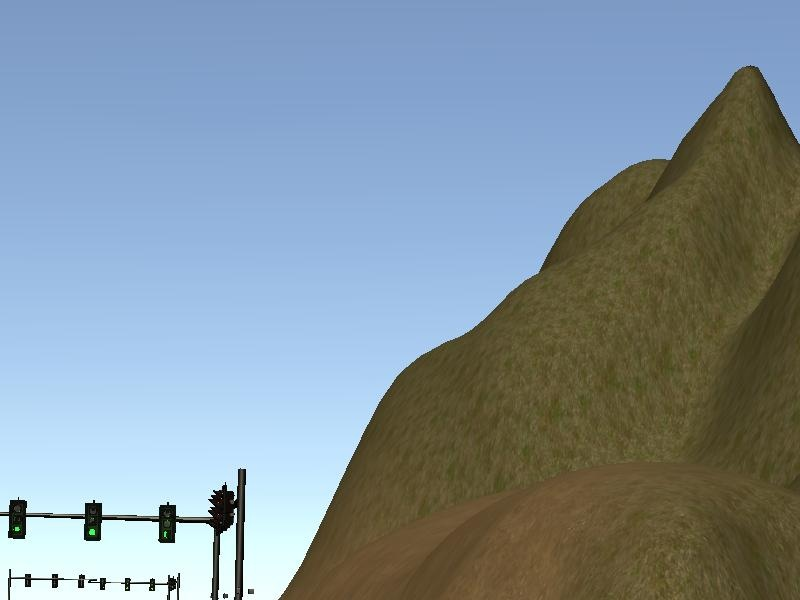traffic_light_green: (1, 497, 214, 546)
